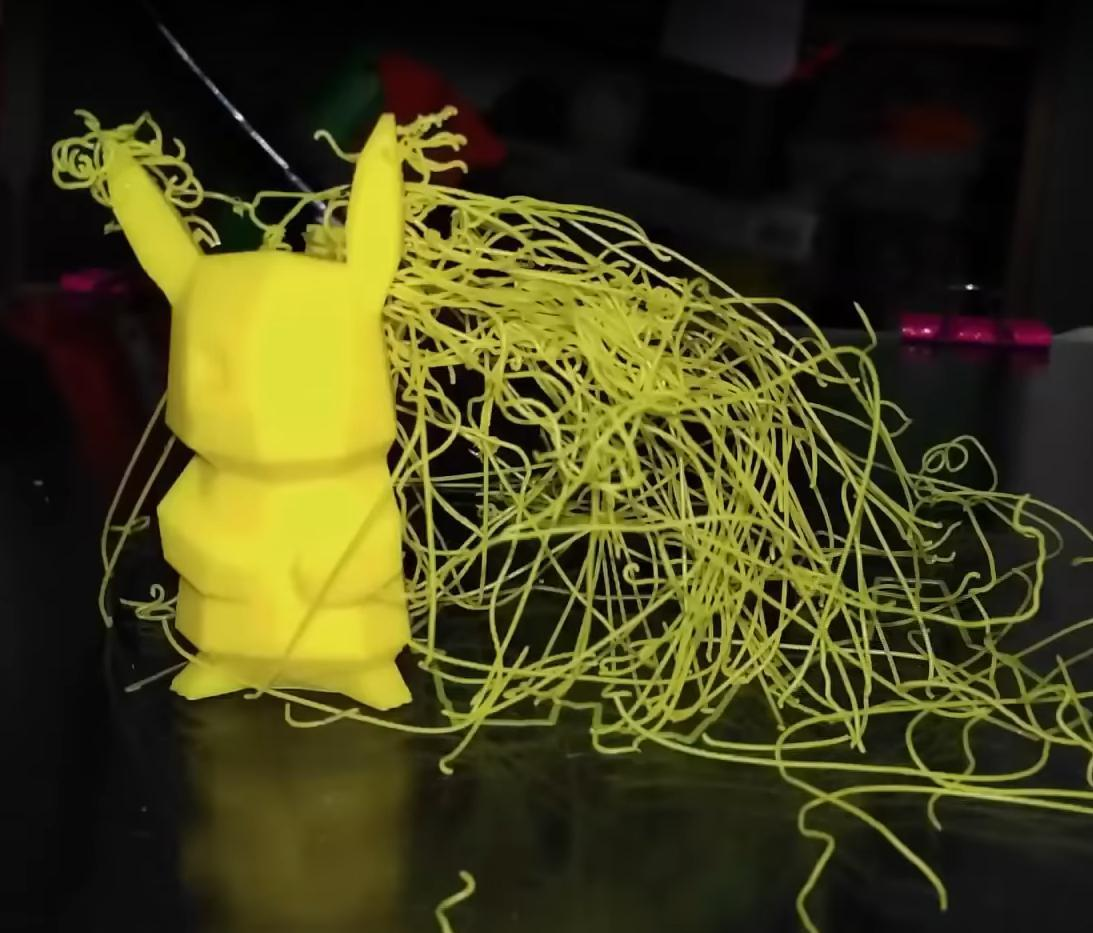Spaghetti: (385, 108, 1092, 842), (25, 97, 365, 273)
